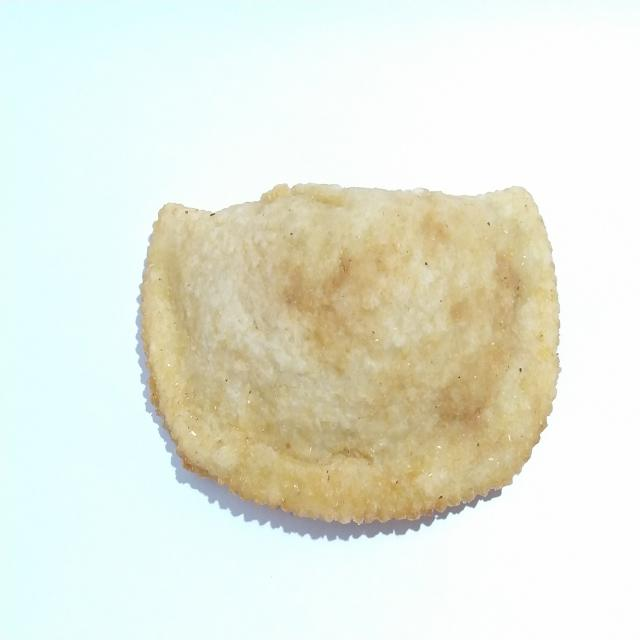Food: (129, 170, 566, 552)
